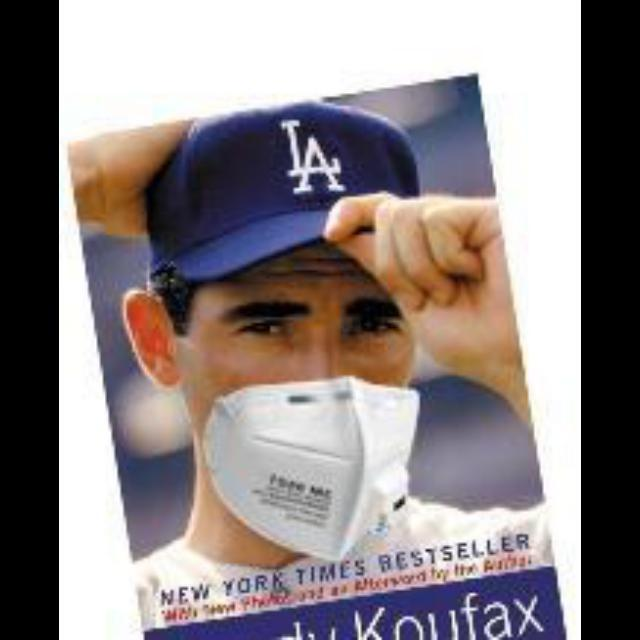suspicion: (149, 126, 471, 560)
